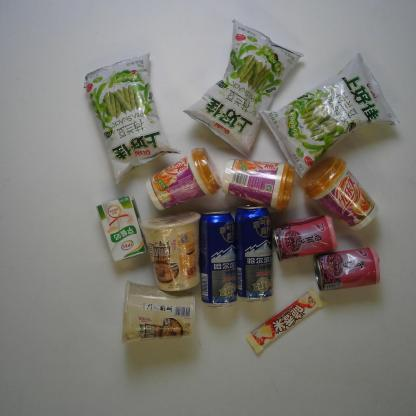Alcohol: (233, 202, 274, 304), (197, 208, 238, 310)
Canned Food: (269, 213, 339, 263), (311, 244, 382, 293)
Chocolate: (243, 285, 324, 357)
Instant Drink: (298, 155, 380, 232), (144, 146, 222, 212), (219, 158, 298, 214)
Instant Noodles: (118, 278, 199, 348), (138, 209, 203, 293)
Milk: (94, 193, 149, 264)
Puffed Food: (257, 51, 401, 180), (181, 17, 306, 160), (81, 49, 182, 187)
